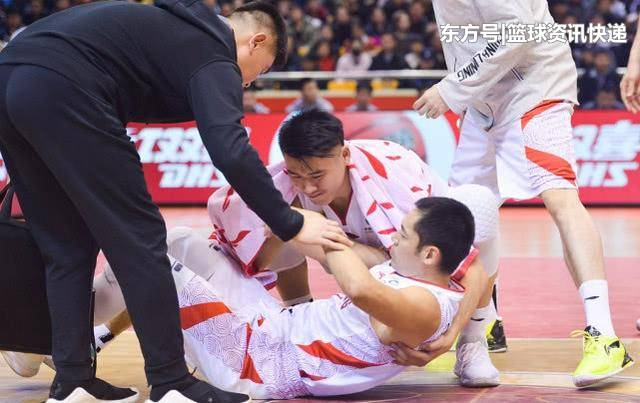10+: (1, 1, 639, 399)
down: (1, 187, 501, 402)
